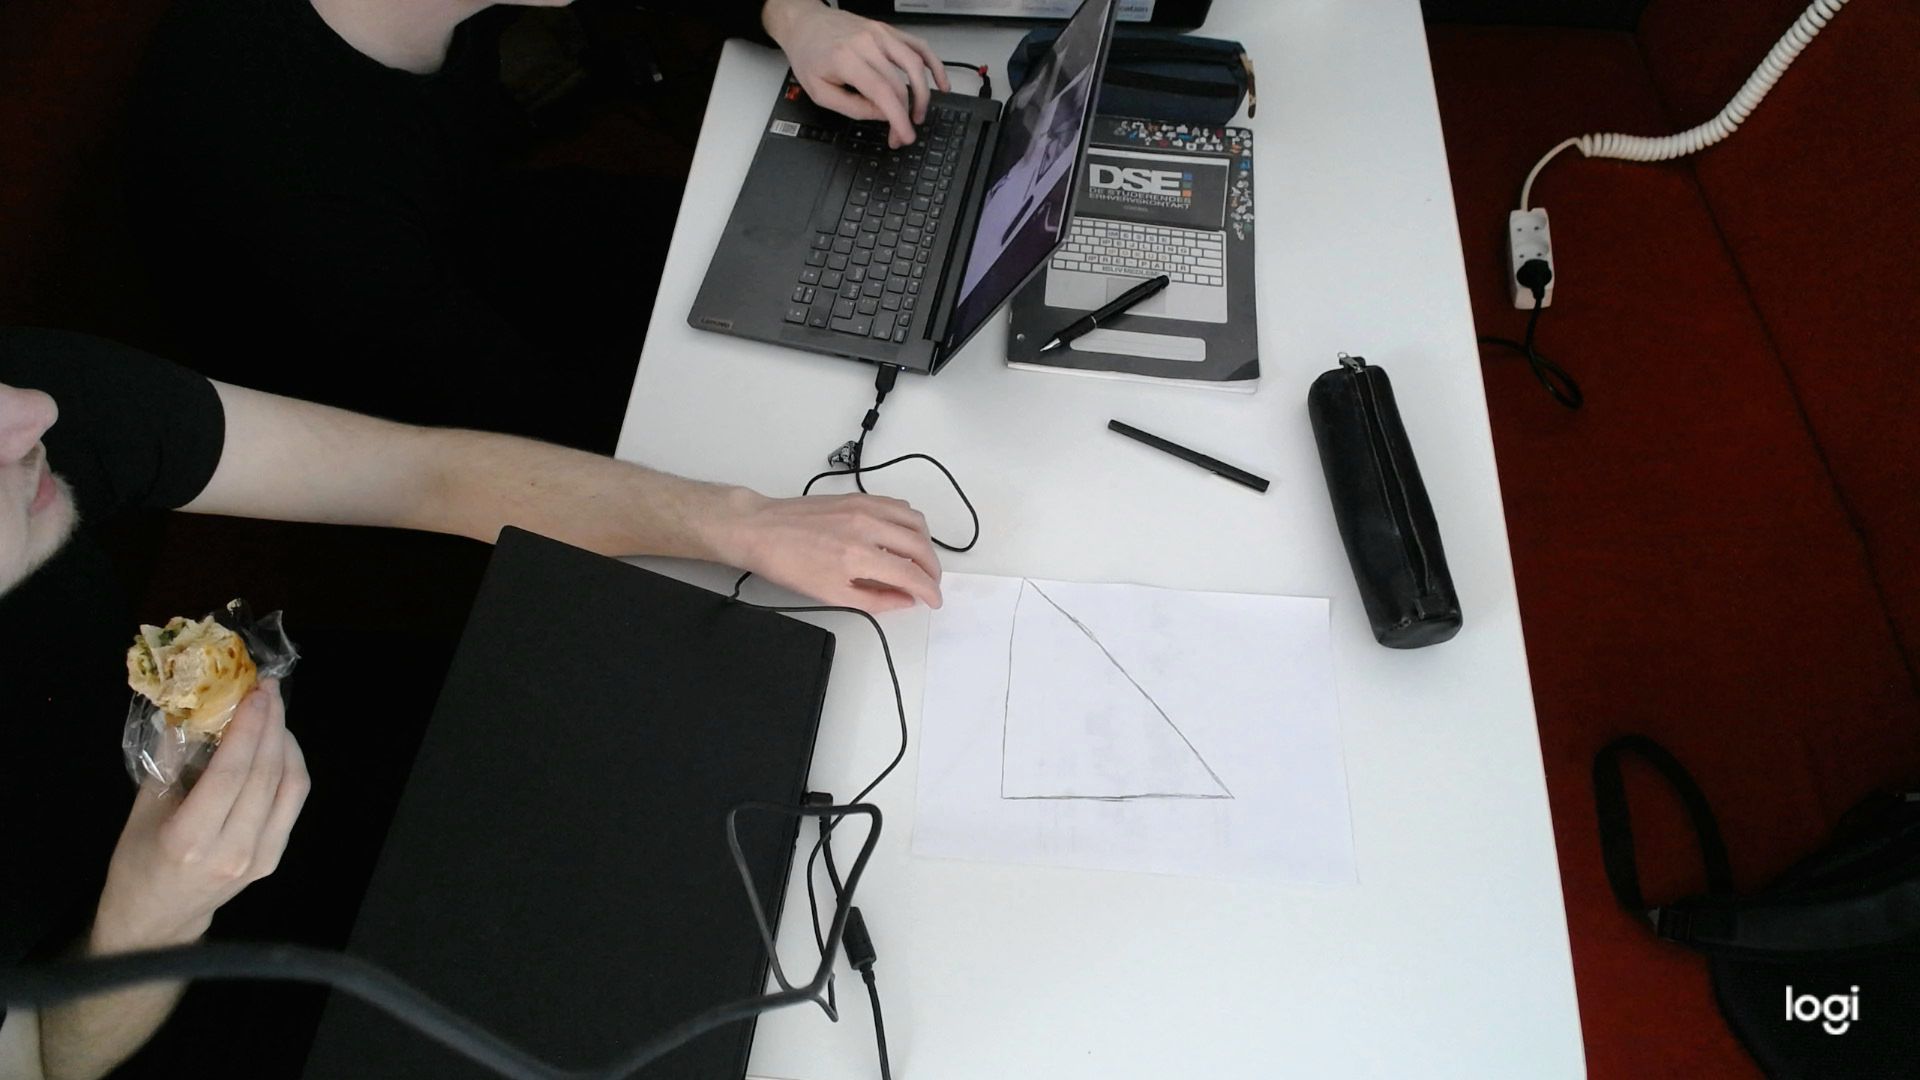Triangle: (994, 574, 1244, 807)
